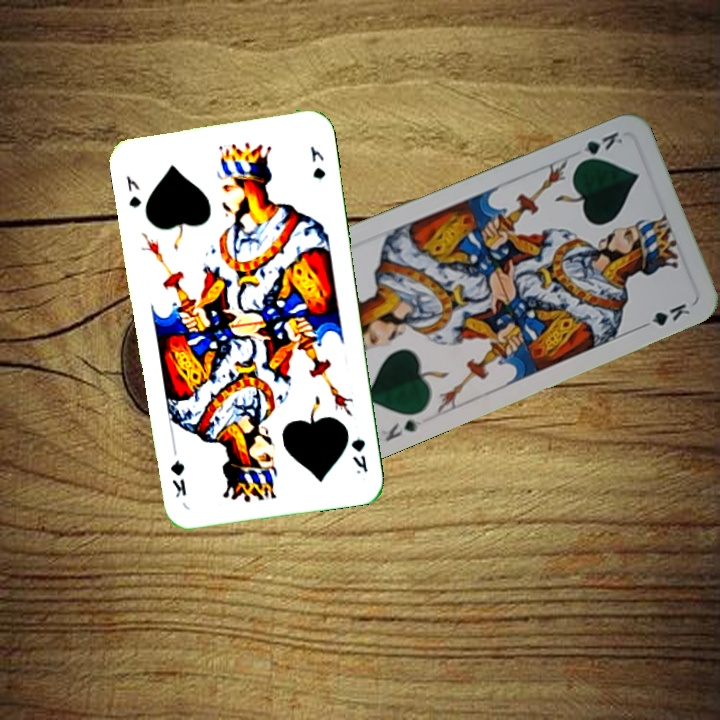GK: (572, 128, 626, 166), (377, 415, 424, 444), (347, 434, 370, 476), (122, 171, 144, 210)
